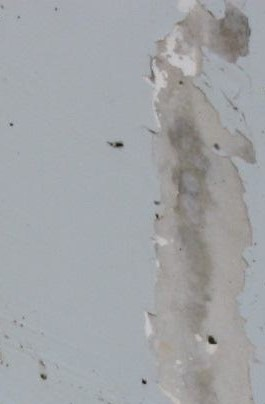Spalling: (144, 1, 260, 404)
